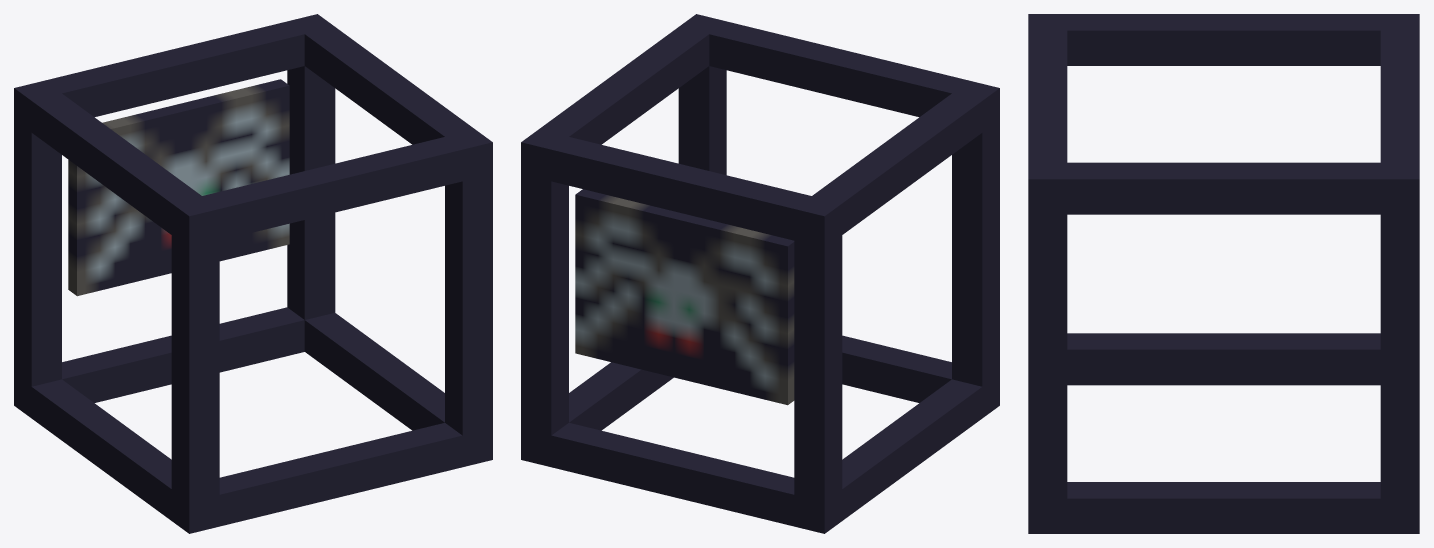
The model's file is spider_2.fbx.
The picture shows the model from 3 angles, left to right: view 1: azimuth 30°, elevation 25°; view 2: azimuth 150°, elevation 25°; view 3: azimuth 270°, elevation 25°; orthographic projection. The views are drawn at different scales.
Visible parts, largest first — view 1: spider_2; view 2: spider_2; view 3: spider_2.
Boxes of the visible parts, bbox=[...] form: spider_2: bbox=[14, 14, 492, 533]; spider_2: bbox=[521, 14, 999, 533]; spider_2: bbox=[1028, 14, 1419, 533].
Bounding box in the file's own units: 20 × 20 × 20.
